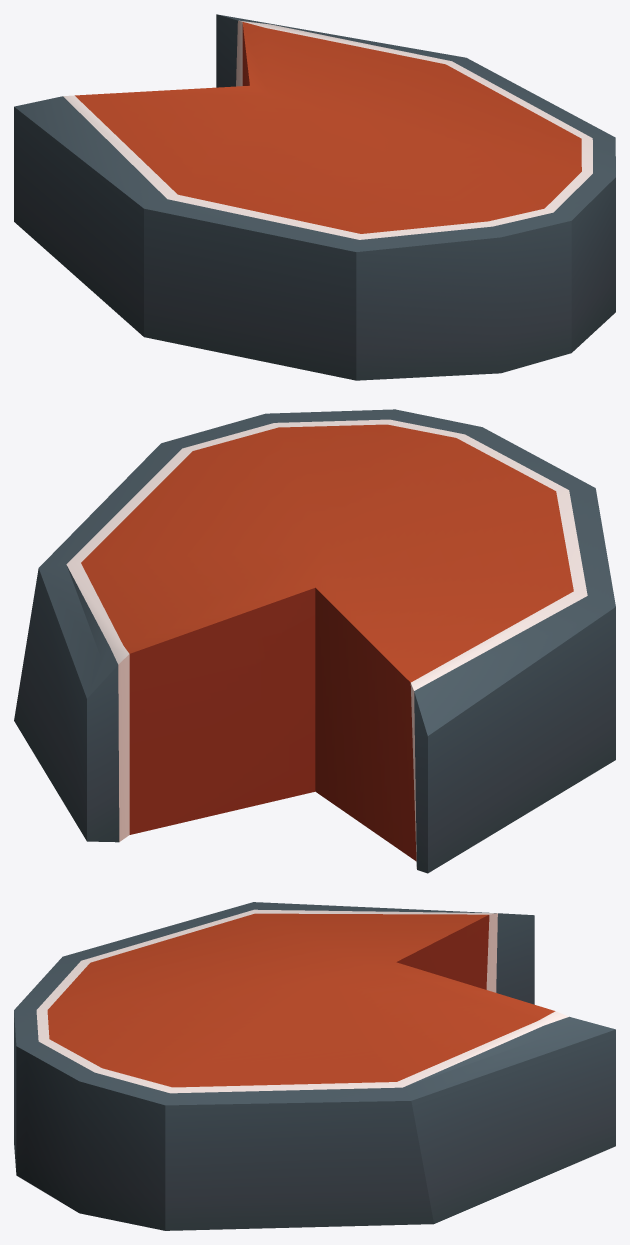
Rendered from Fish_2.fbx.
3 renders of one model, top to bottom at view 1: azimuth 30°, elevation 25°; view 2: azimuth 150°, elevation 25°; view 3: azimuth 270°, elevation 25°, orthographic. The views are drawn at different scales.
Parts seen in each view (by area): view 1: Fish_2; view 2: Fish_2; view 3: Fish_2.
Boxes of the visible parts, box(x1,y1,x2,y2) form: Fish_2: box(14, 14, 615, 380); Fish_2: box(14, 409, 615, 873); Fish_2: box(14, 902, 615, 1230).
Size of the model in its own units: 30.72 by 11.77 by 38.43.
